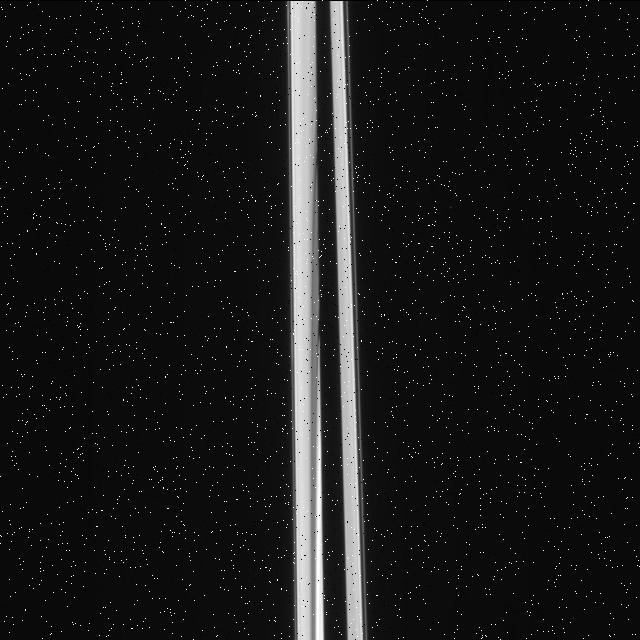Saturn: (284, 0, 372, 640)
